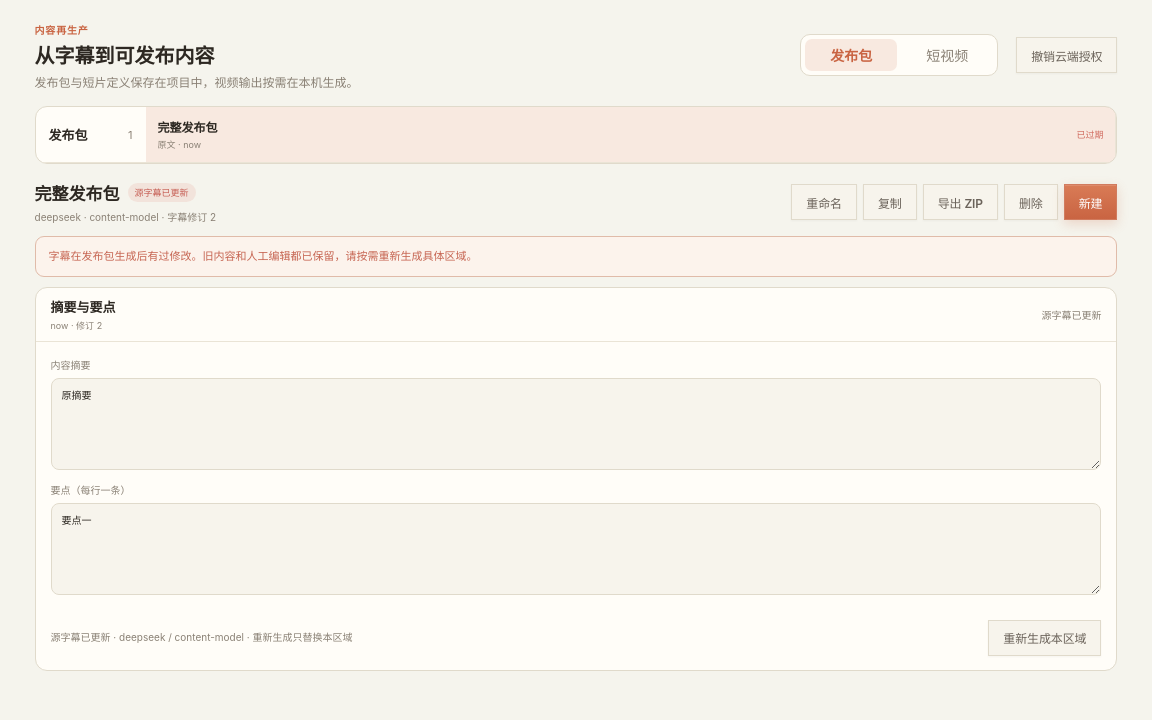
ContentCenter › preserves stale content and autosaves a section with its expected revision
Expected: the 1st text "源字幕已更新" is shown, [128,183,196,202]
Replace the text in the text box labelled "内容摘要" with "人工修改后的摘要". click: (576, 424)
box: [50,378,1101,470]
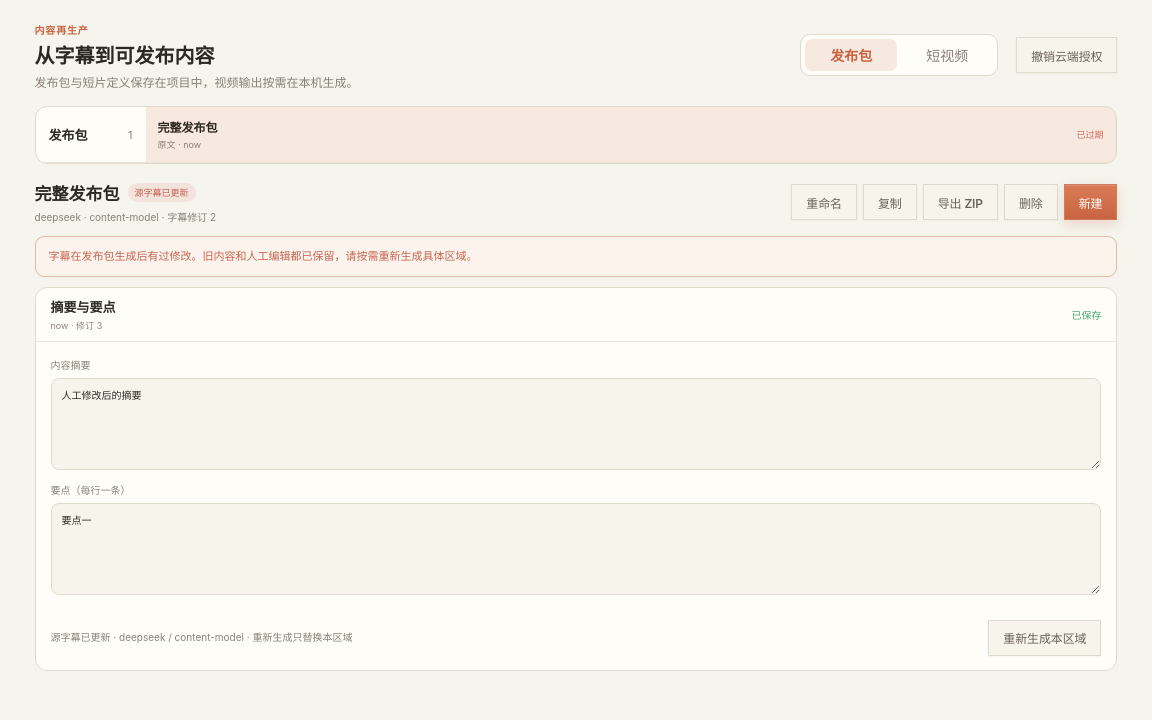
Expected: the text "已保存" is shown, [1072,306,1102,322]
